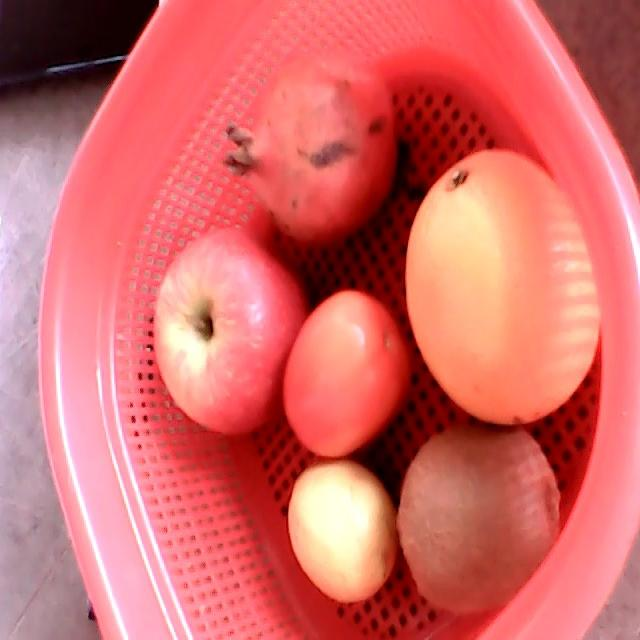apple: (151, 224, 309, 440)
kiwi: (395, 425, 561, 613)
lemon: (288, 460, 396, 602)
orange: (405, 147, 601, 427)
pomegranate: (223, 46, 398, 243)
tomato: (283, 288, 413, 458)
